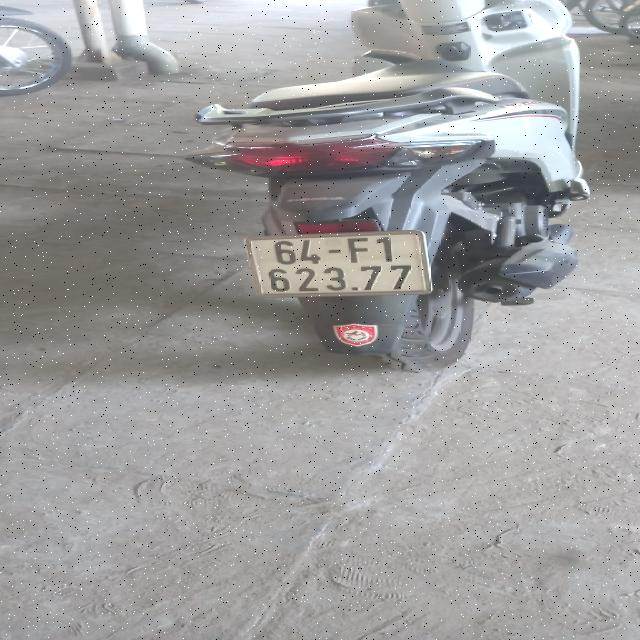1: (376, 236, 399, 262)
2: (294, 268, 320, 292)
3: (325, 266, 346, 290)
4: (300, 240, 322, 265)
6: (273, 240, 298, 266), (267, 268, 292, 292)
7: (391, 264, 412, 290), (359, 266, 381, 290)
F: (347, 237, 372, 263)
